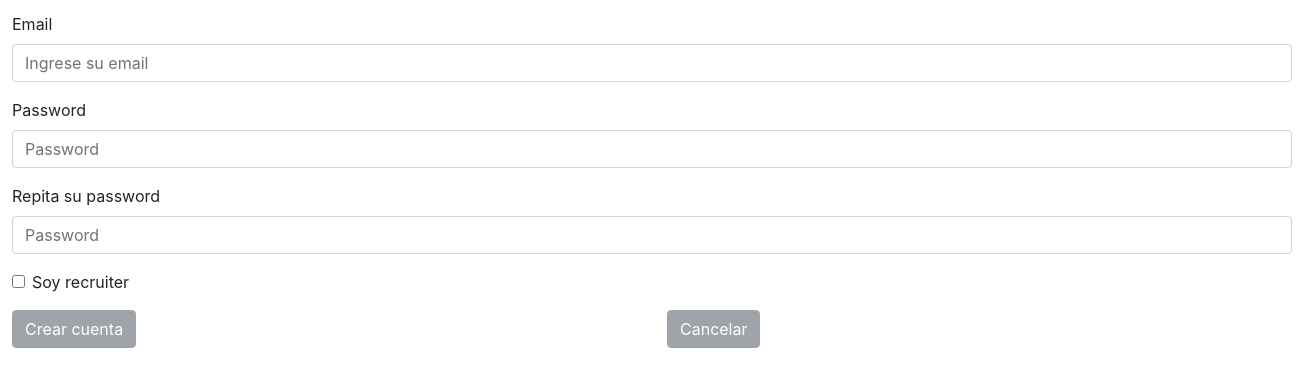
Test: The registration form › enables the create account button when data in form is valid
This screenshot has width=1304, height=365.
Type "a@b.com" into the field labelled "Email" at [652, 63], box [12,44,1292,82]
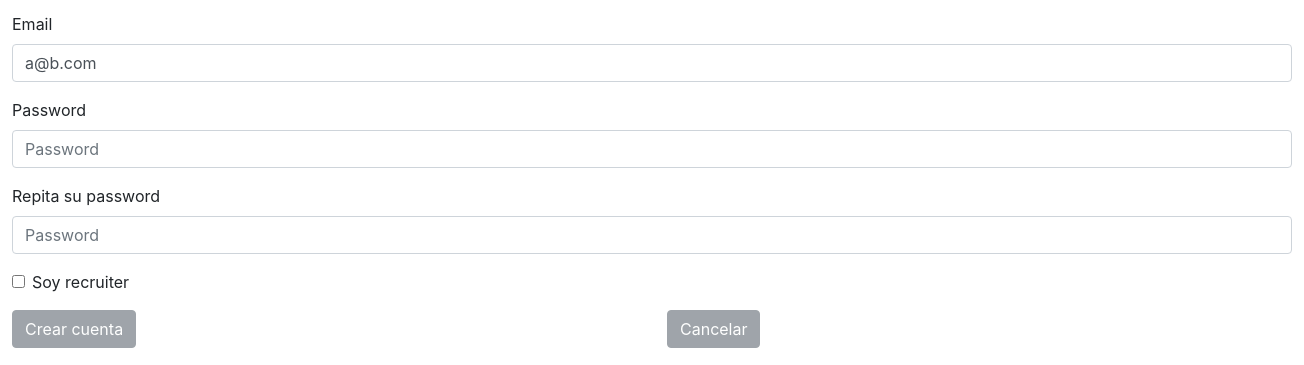
Type "tritri" into the password field labelled "Password" at [652, 149], box [12,130,1292,168]
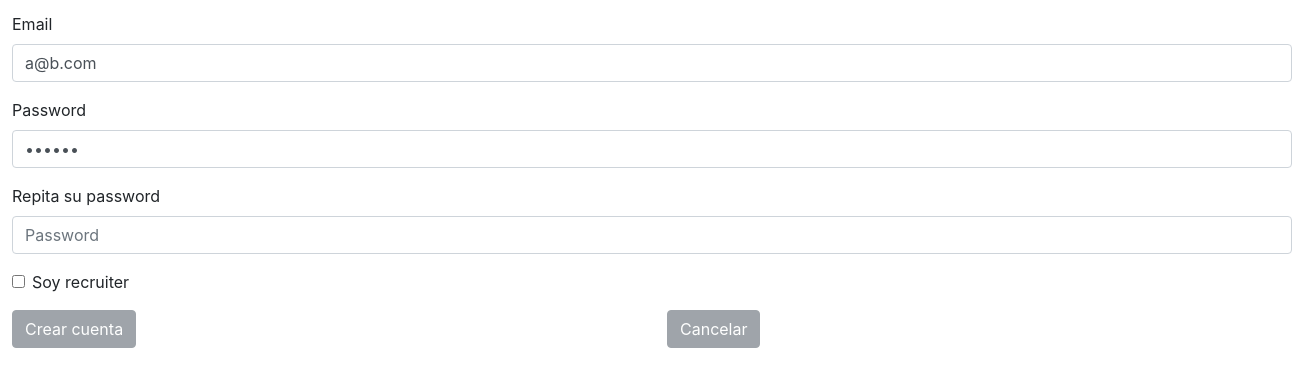
Type "tritri" into the password field labelled "Repita su password" at [652, 235], box [12,216,1292,254]
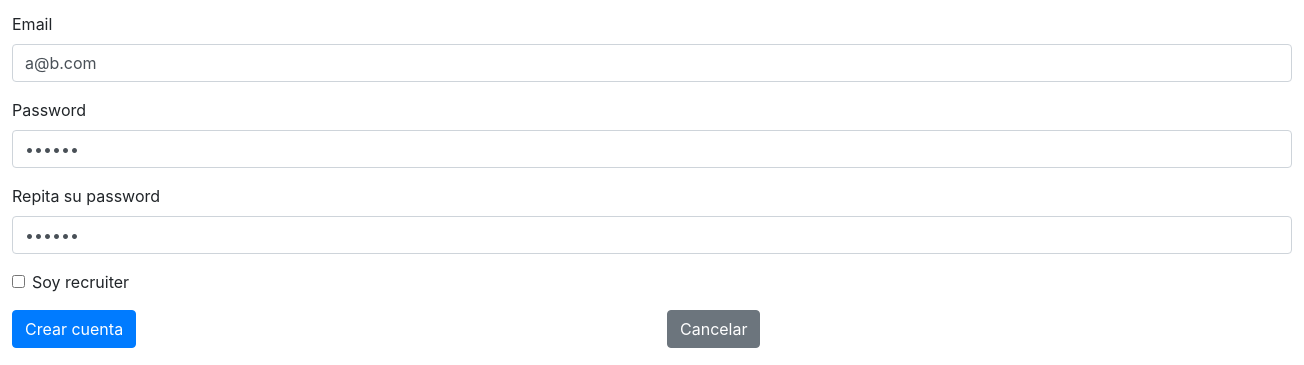
Check: the button "Crear cuenta" is enabled, box [12,310,136,348]
